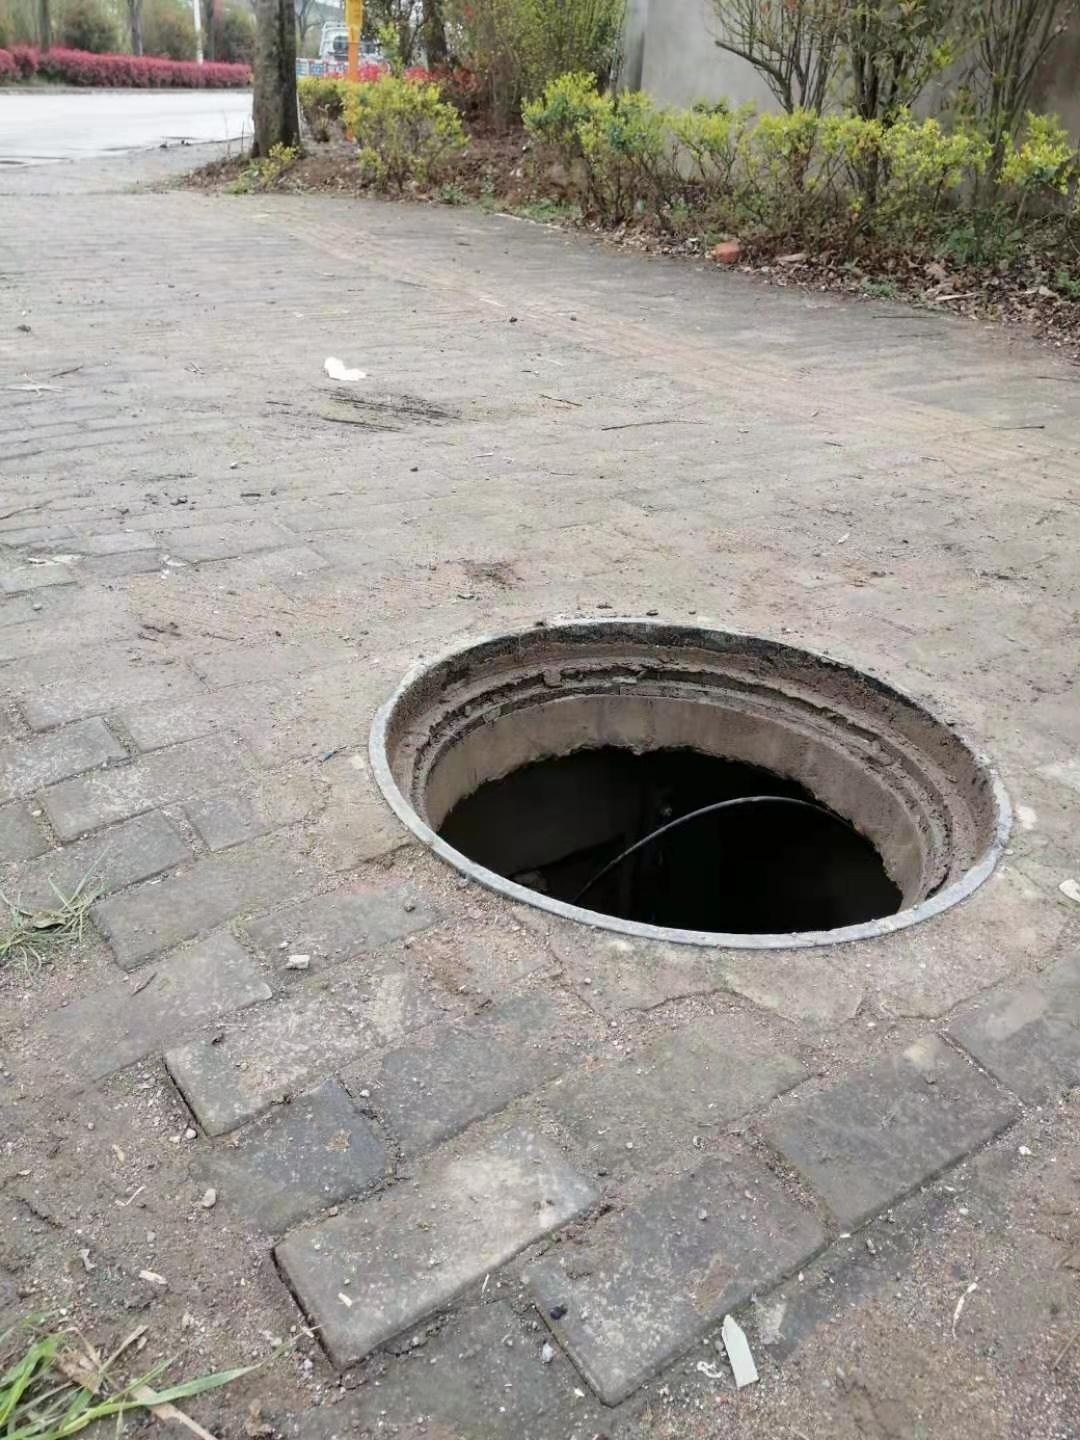lose: (368, 612, 1011, 945)
